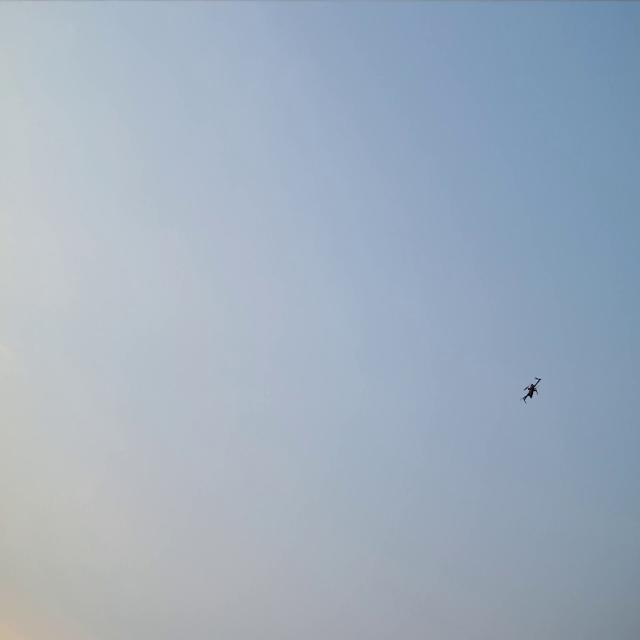UAV: (523, 378, 540, 402)
